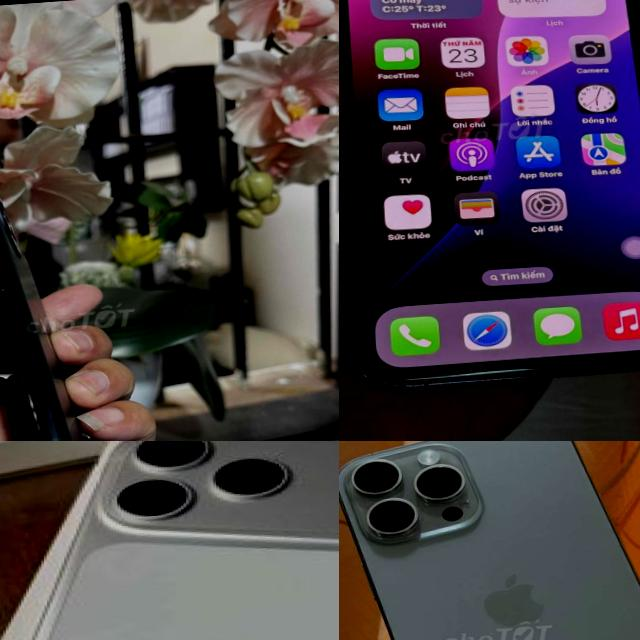gen_11: (0, 200, 87, 441)
gen_12_13: (339, 0, 640, 399)
gen_16: (339, 441, 640, 640)
gen_17: (0, 441, 339, 640)
